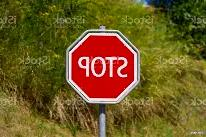Stop: (71, 34, 133, 99)
